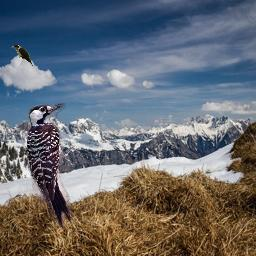Cuckoo: (11, 45, 33, 67)
Woodpecker: (27, 103, 71, 228)
